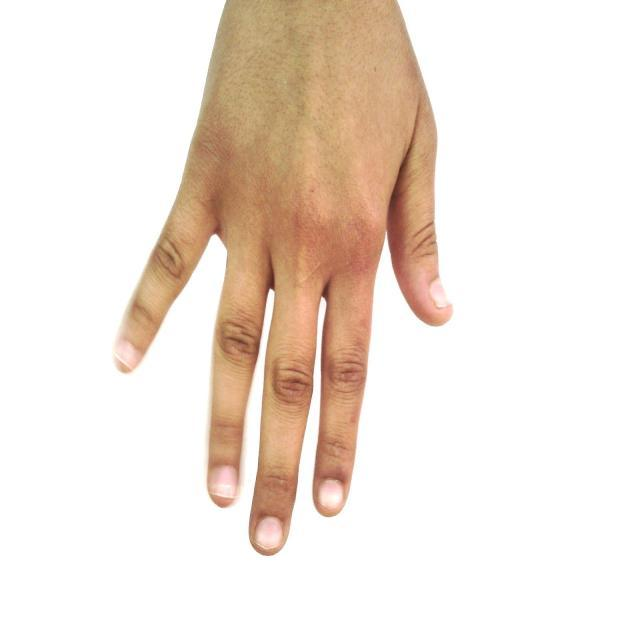Fingernail: (256, 517, 283, 548), (211, 466, 237, 497), (320, 480, 343, 510), (430, 279, 450, 308), (116, 342, 137, 367)
